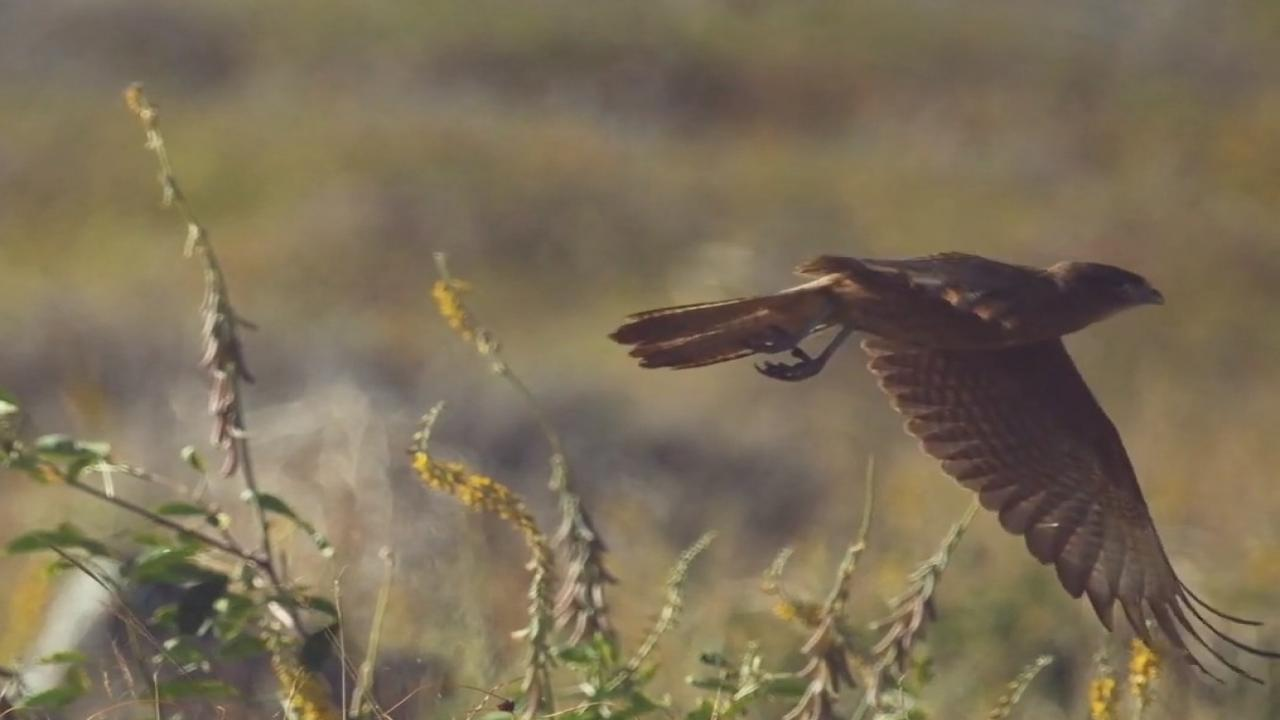Bird: (602, 245, 1280, 694)
